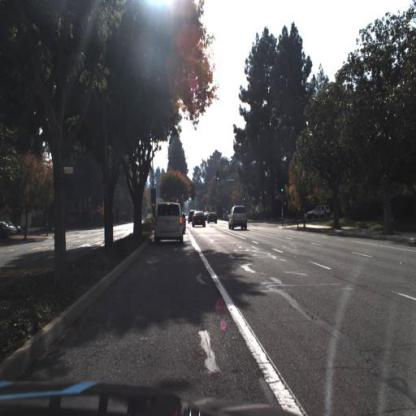car: (154, 200, 189, 249), (306, 195, 335, 222), (228, 203, 251, 234), (306, 200, 333, 218), (190, 209, 208, 230), (186, 205, 195, 234), (206, 210, 222, 226), (188, 209, 197, 225), (209, 212, 219, 226)
trafficLight-Green: (216, 169, 222, 181), (217, 170, 222, 184), (280, 185, 285, 199), (281, 183, 286, 195)
trafficLight-Red: (152, 202, 157, 218)
